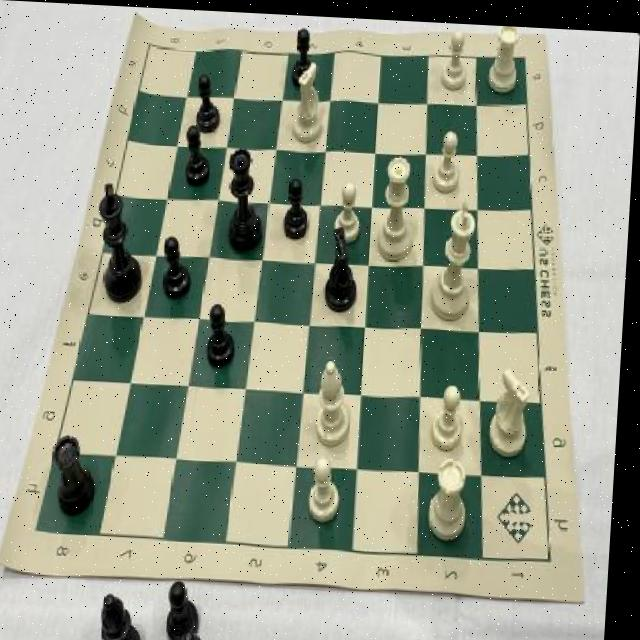black-bishop: (94, 174, 152, 307)
black-king: (319, 223, 369, 315)
black-knight: (205, 295, 246, 372), (179, 120, 218, 192), (162, 230, 199, 305), (279, 171, 319, 240), (287, 21, 324, 88), (194, 66, 230, 133)
black-pawn: (218, 137, 273, 254)
black-queen: (52, 428, 109, 523)
black-rook: (315, 349, 364, 448)
white-bishop: (429, 191, 486, 319)
white-king: (488, 350, 541, 456)
white-knight: (307, 447, 352, 524), (433, 375, 476, 446), (429, 123, 469, 192), (435, 21, 475, 89), (333, 175, 366, 242)
white-pawn: (375, 145, 423, 259)
white-queen: (426, 447, 483, 539), (484, 20, 527, 93)
